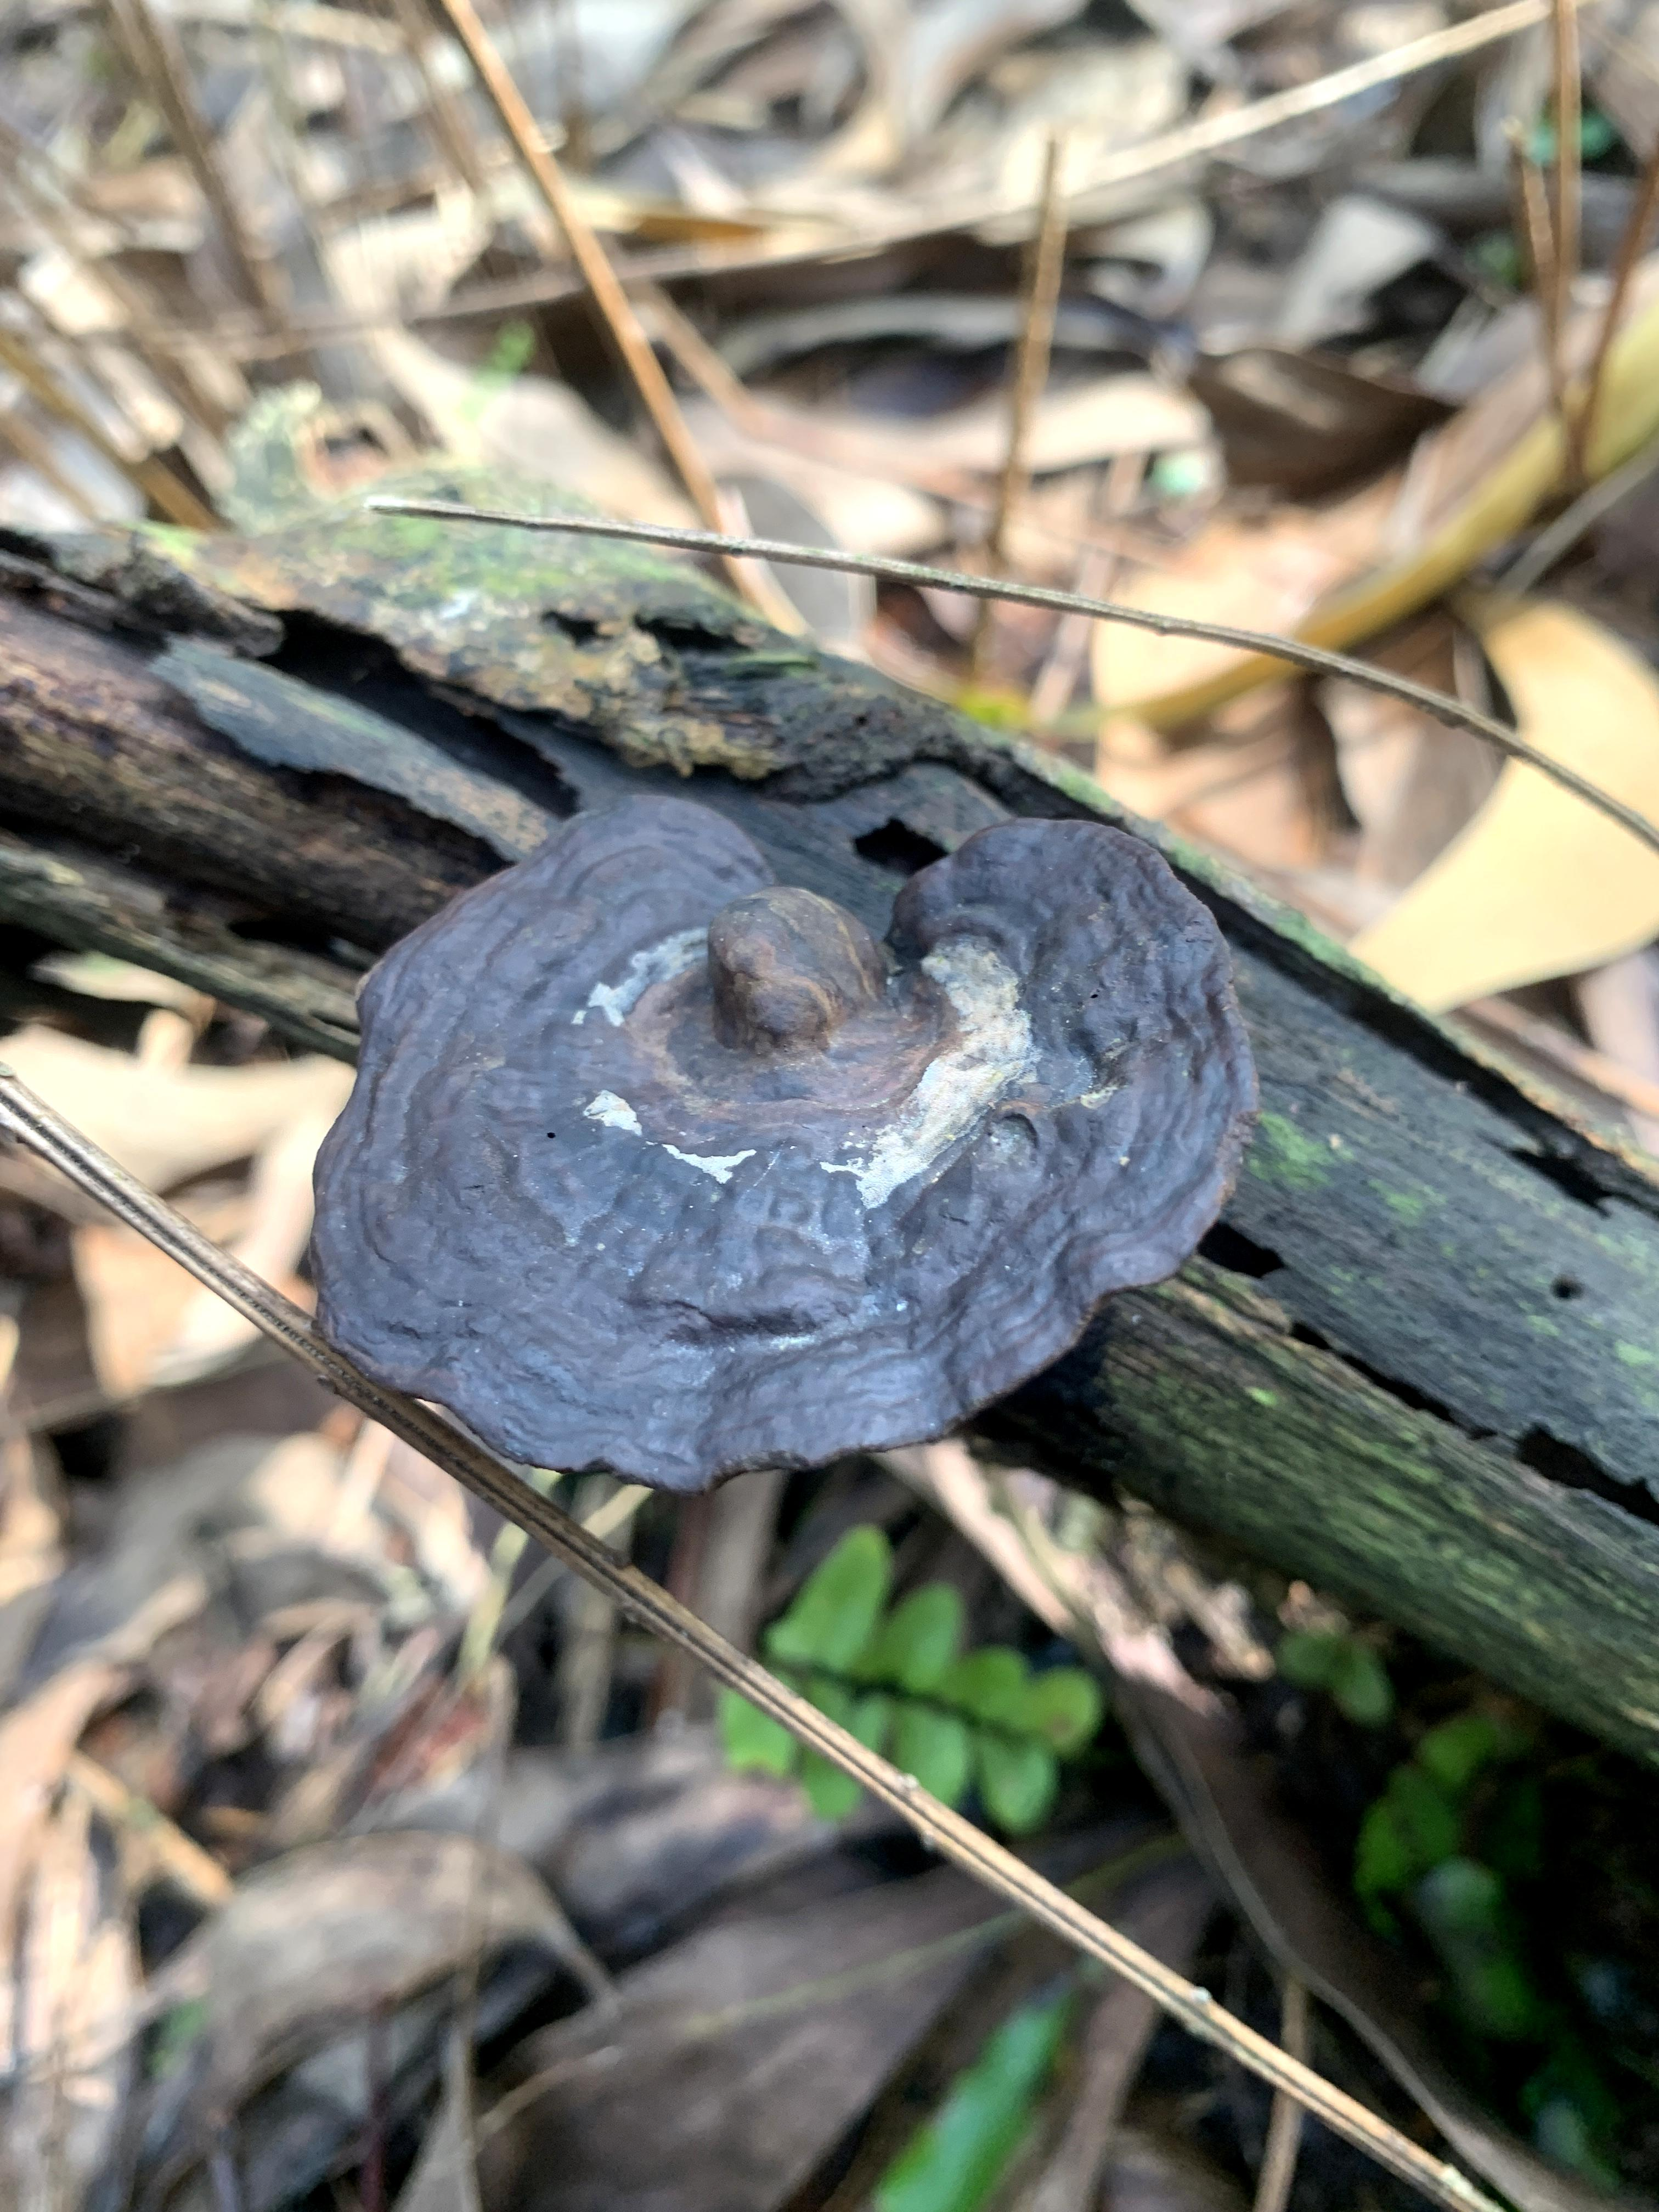Ganoderma - Fruit Body: (308, 775, 1244, 1472)
